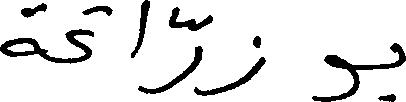X: (164, 2, 201, 99), (217, 31, 264, 98), (0, 0, 40, 61), (130, 0, 149, 98), (324, 50, 360, 101), (68, 3, 92, 68), (393, 38, 405, 101)
